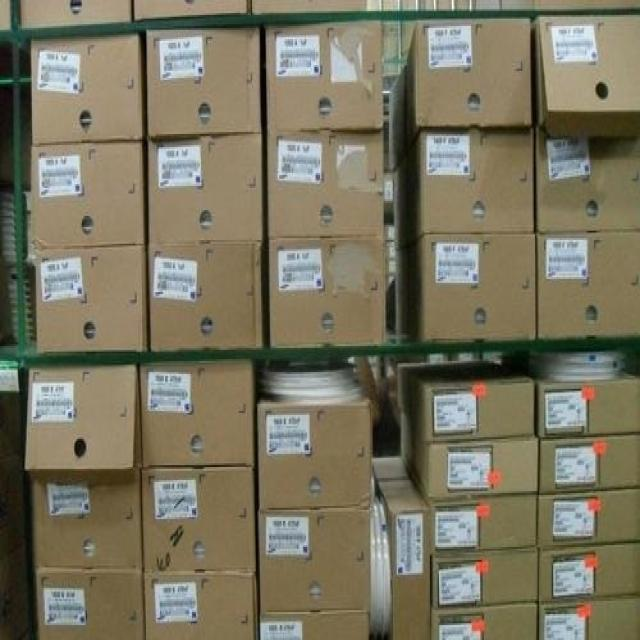box: (388, 19, 531, 164), (390, 127, 536, 253), (394, 231, 538, 342), (147, 132, 270, 246), (531, 13, 639, 140), (256, 396, 371, 512), (147, 242, 270, 350), (270, 234, 388, 346), (29, 33, 147, 143), (268, 128, 383, 240), (147, 28, 262, 140), (31, 140, 148, 249), (24, 363, 142, 471), (265, 22, 383, 130), (36, 246, 151, 353), (141, 469, 257, 575), (401, 413, 538, 502), (137, 363, 253, 467), (398, 359, 536, 445), (31, 469, 145, 573), (256, 510, 372, 610), (536, 231, 640, 342), (534, 132, 640, 234), (372, 458, 431, 640), (498, 359, 639, 435), (143, 573, 259, 640), (36, 571, 146, 640), (539, 540, 640, 603), (431, 551, 540, 608), (431, 495, 536, 554), (538, 487, 637, 549), (539, 432, 639, 493), (22, 0, 133, 41), (539, 595, 639, 638), (431, 601, 540, 640), (132, 0, 251, 35), (260, 605, 370, 640)
